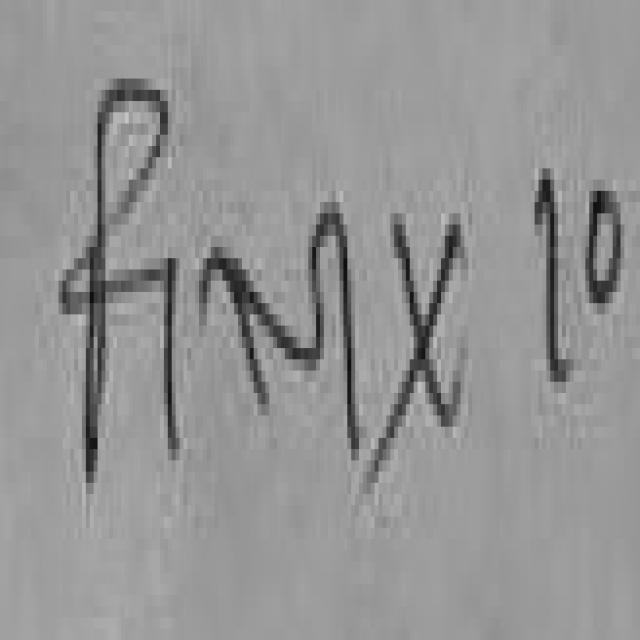0: (589, 191, 624, 303)
1: (539, 168, 570, 382)
F: (62, 79, 168, 477)
i: (327, 202, 359, 455), (164, 258, 180, 460)
n: (203, 213, 325, 415)
x: (367, 213, 464, 488)
